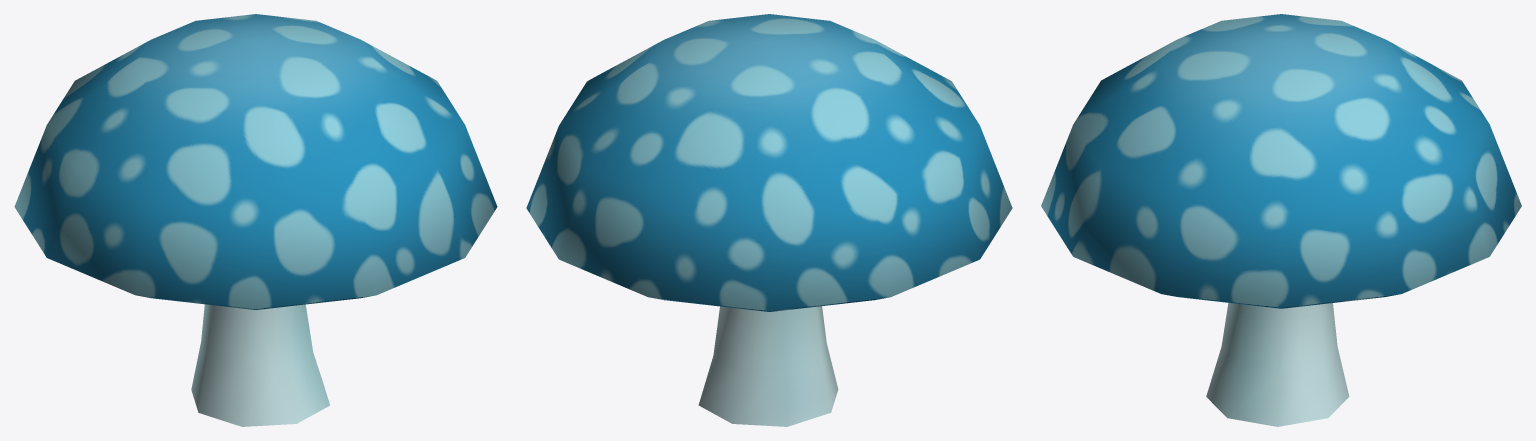
Rendered from BG1-9Boss.fbx.
3 views of the same model, side by side, from view 1: azimuth 30°, elevation 25°; view 2: azimuth 150°, elevation 25°; view 3: azimuth 270°, elevation 25° (orthographic).
Parts seen in each view (by area): view 1: Cylinder001; view 2: Cylinder001; view 3: Cylinder001.
Boxes of the visible parts, bbox=[...] form: Cylinder001: bbox=[14, 14, 497, 426]; Cylinder001: bbox=[526, 14, 1012, 426]; Cylinder001: bbox=[1041, 14, 1521, 426].
Bounding box in the file's own units: 167 × 135 × 167.
1 material, 1 textured.
